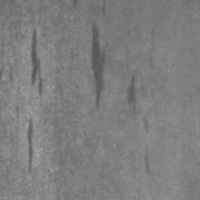inclusion: (84, 15, 115, 111), (123, 66, 158, 143), (24, 17, 50, 105), (20, 114, 46, 175), (139, 139, 158, 178)
